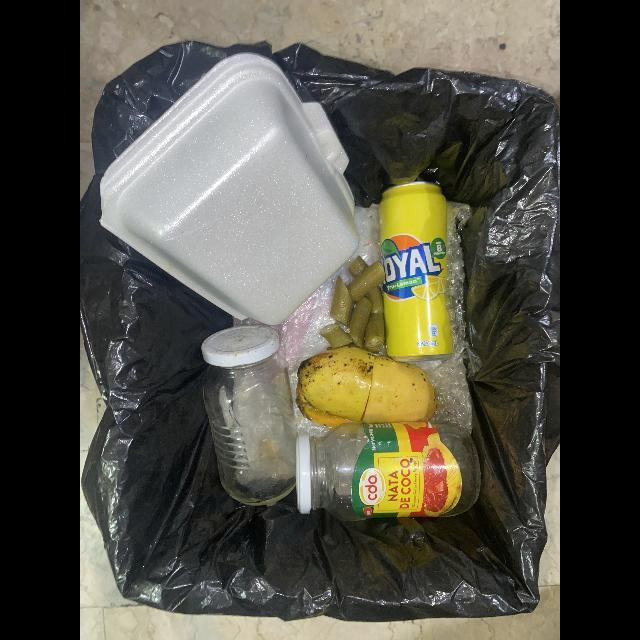aluminum: (378, 180, 454, 362)
glass_bottle: (296, 421, 480, 521), (201, 325, 297, 505)
left_over_food: (319, 255, 386, 352)
